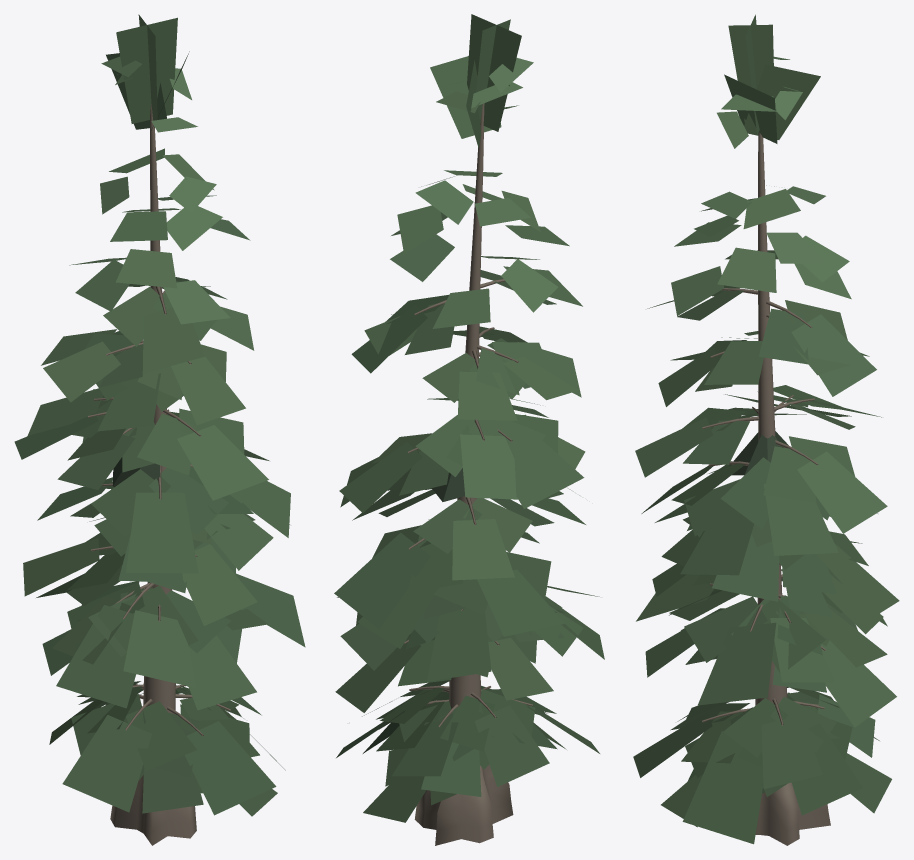
The model's file is fir_young.glb.
3 renders of one model, left to right at view 1: azimuth 30°, elevation 25°; view 2: azimuth 150°, elevation 25°; view 3: azimuth 270°, elevation 25°, orthographic. The views are drawn at different scales.
Parts seen in each view (by area): view 1: fir_young; view 2: fir_young; view 3: fir_young.
Boxes of the visible parts, x1=… form: fir_young: x1=14, y1=14, x2=305, y2=845; fir_young: x1=334, y1=14, x2=604, y2=845; fir_young: x1=633, y1=14, x2=899, y2=845.
Size of the model in its own units: 3.22 by 9.55 by 2.91.
